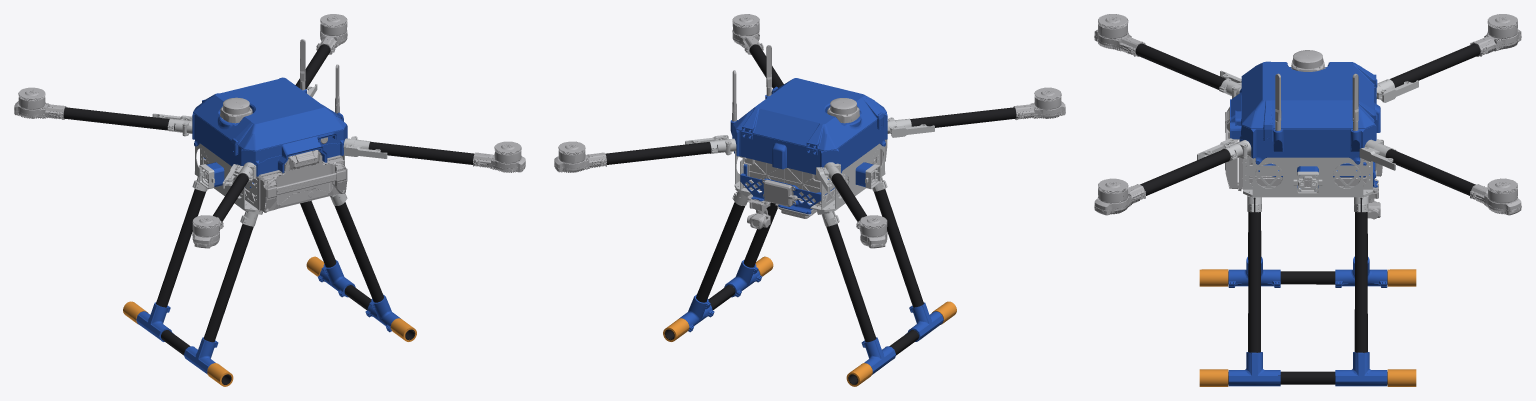
File: quiver_body.glb
3 views of the same model, side by side, from view 1: azimuth 30°, elevation 25°; view 2: azimuth 150°, elevation 25°; view 3: azimuth 270°, elevation 25° (orthographic). The views are drawn at different scales.
Visible parts, largest first — view 1: quiver_body; view 2: quiver_body; view 3: quiver_body.
Part boxes in pixels (x1,y1,x2,y2): quiver_body: [14, 14, 525, 386]; quiver_body: [554, 14, 1065, 386]; quiver_body: [1094, 14, 1521, 386].
Bounding box in the file's own units: 0.9853 × 0.7419 × 0.9853.
